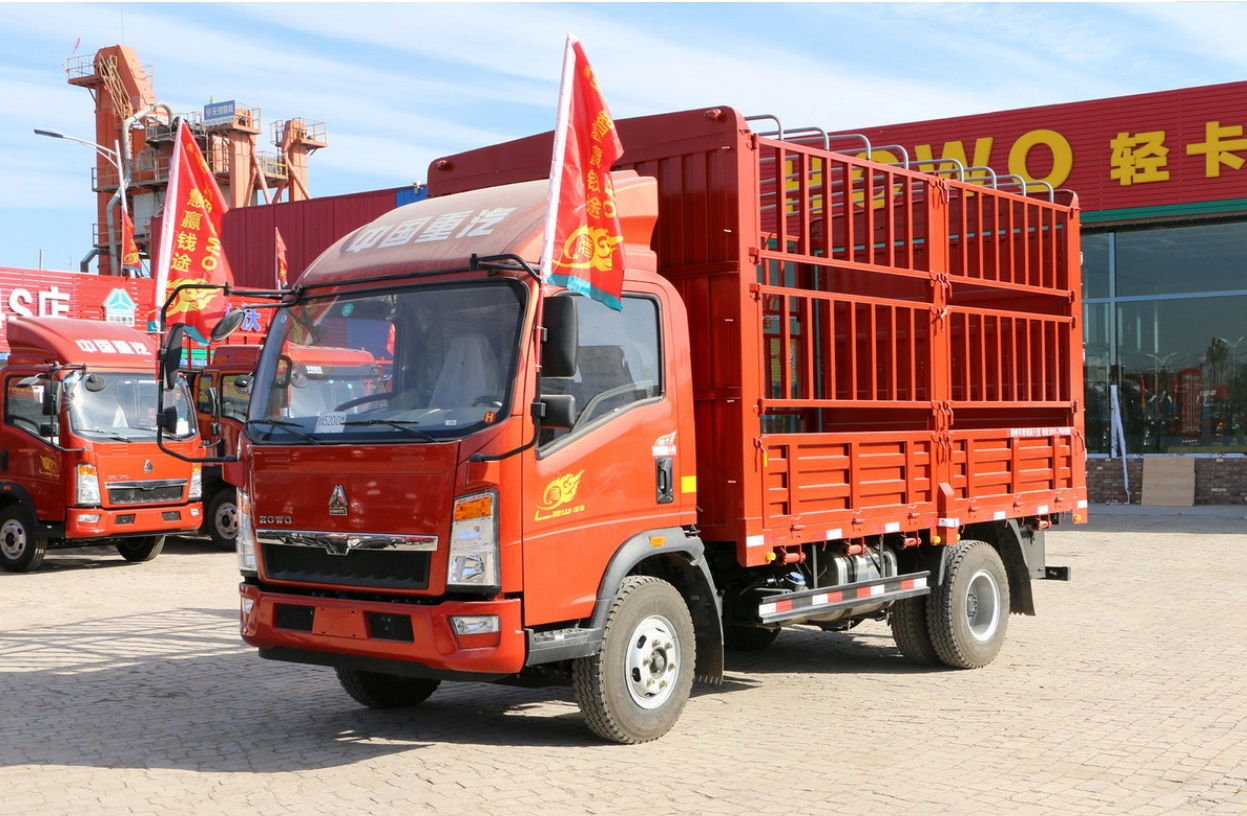truck: (155, 103, 1096, 756)
